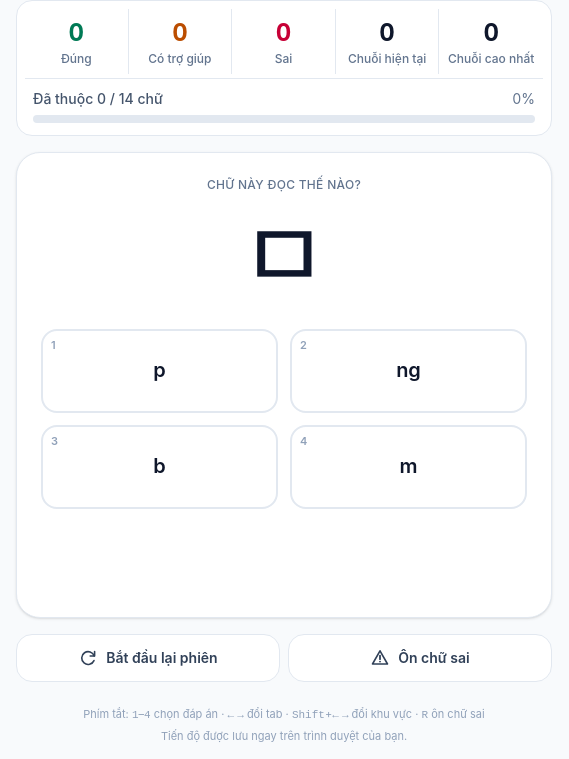
Test: assisted answers › masters that same character on an unassisted answer
(page scrolled)
Expected: the text "Đã thuộc 0 / 14 chữ" is shown, [33,89,163,109]
Click the button named "Đáp án" at (408, 467), box [290,425,527,509]
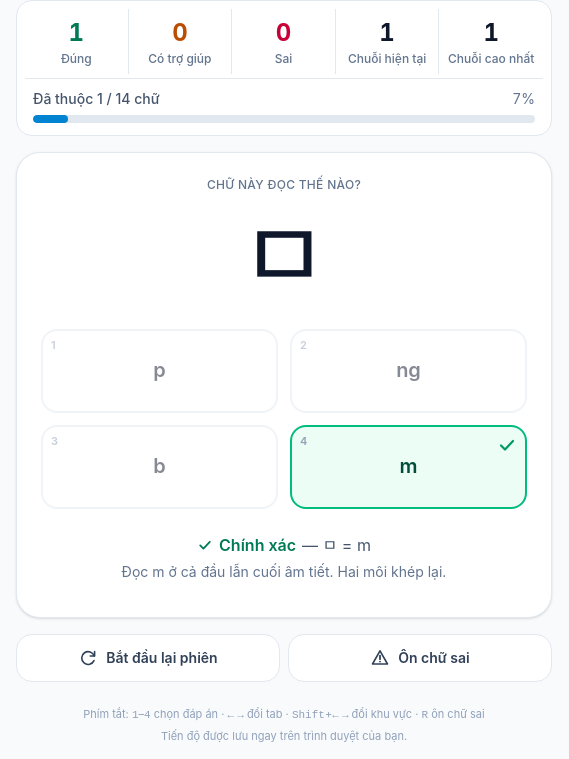
Expected: the text "Đã thuộc 1 / 14 chữ" is shown, [33,89,160,109]
